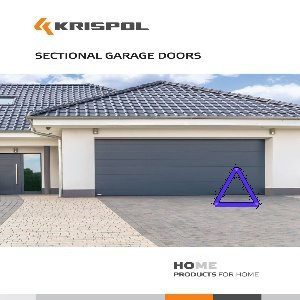triangle: (211, 163, 264, 212)
